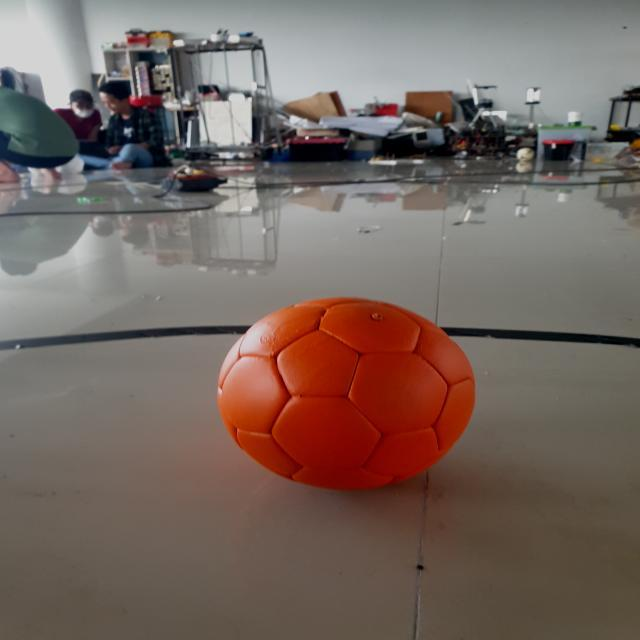bola: (211, 290, 488, 494)
